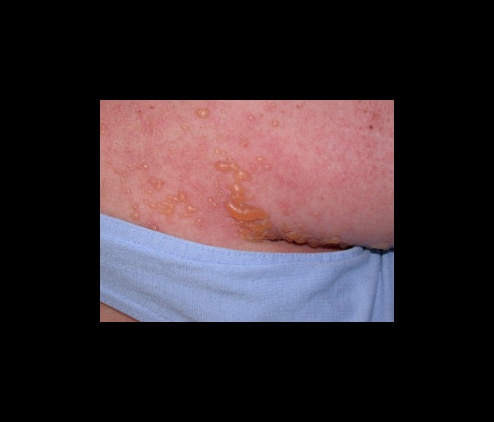SJS-TEN: (101, 98, 397, 267)
